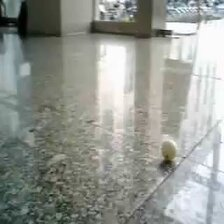w: (159, 138, 178, 160)
